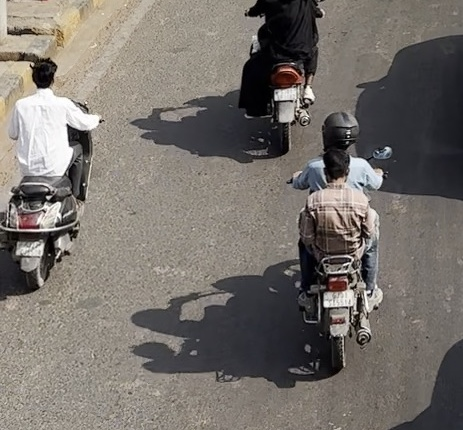BikeWithRider: (282, 107, 398, 376), (0, 53, 112, 295), (233, 0, 335, 158)
Helmet: (319, 109, 361, 156)
NoHelmet: (317, 150, 356, 187), (26, 55, 61, 92)
